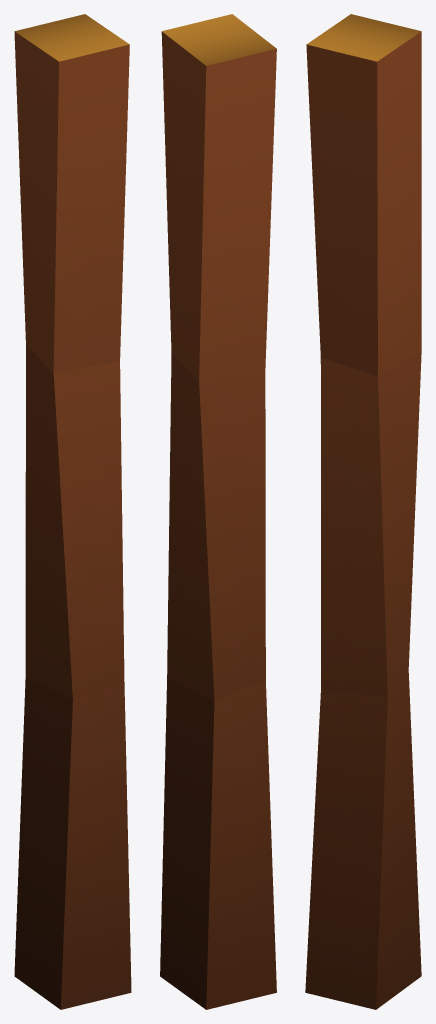
File: wood.fbx
The picture shows the model from 3 angles, left to right: view 1: azimuth 30°, elevation 25°; view 2: azimuth 210°, elevation 25°; view 3: azimuth 330°, elevation 25°; orthographic projection.
Parts seen in each view (by area): view 1: wood; view 2: wood; view 3: wood.
Part boxes in pixels (left/top/right/bottom): wood: left=14, top=14, right=131, bottom=1009; wood: left=160, top=14, right=276, bottom=1009; wood: left=305, top=14, right=421, bottom=1009.
Size of the model in its own units: 61.09 by 744 by 66.9.
